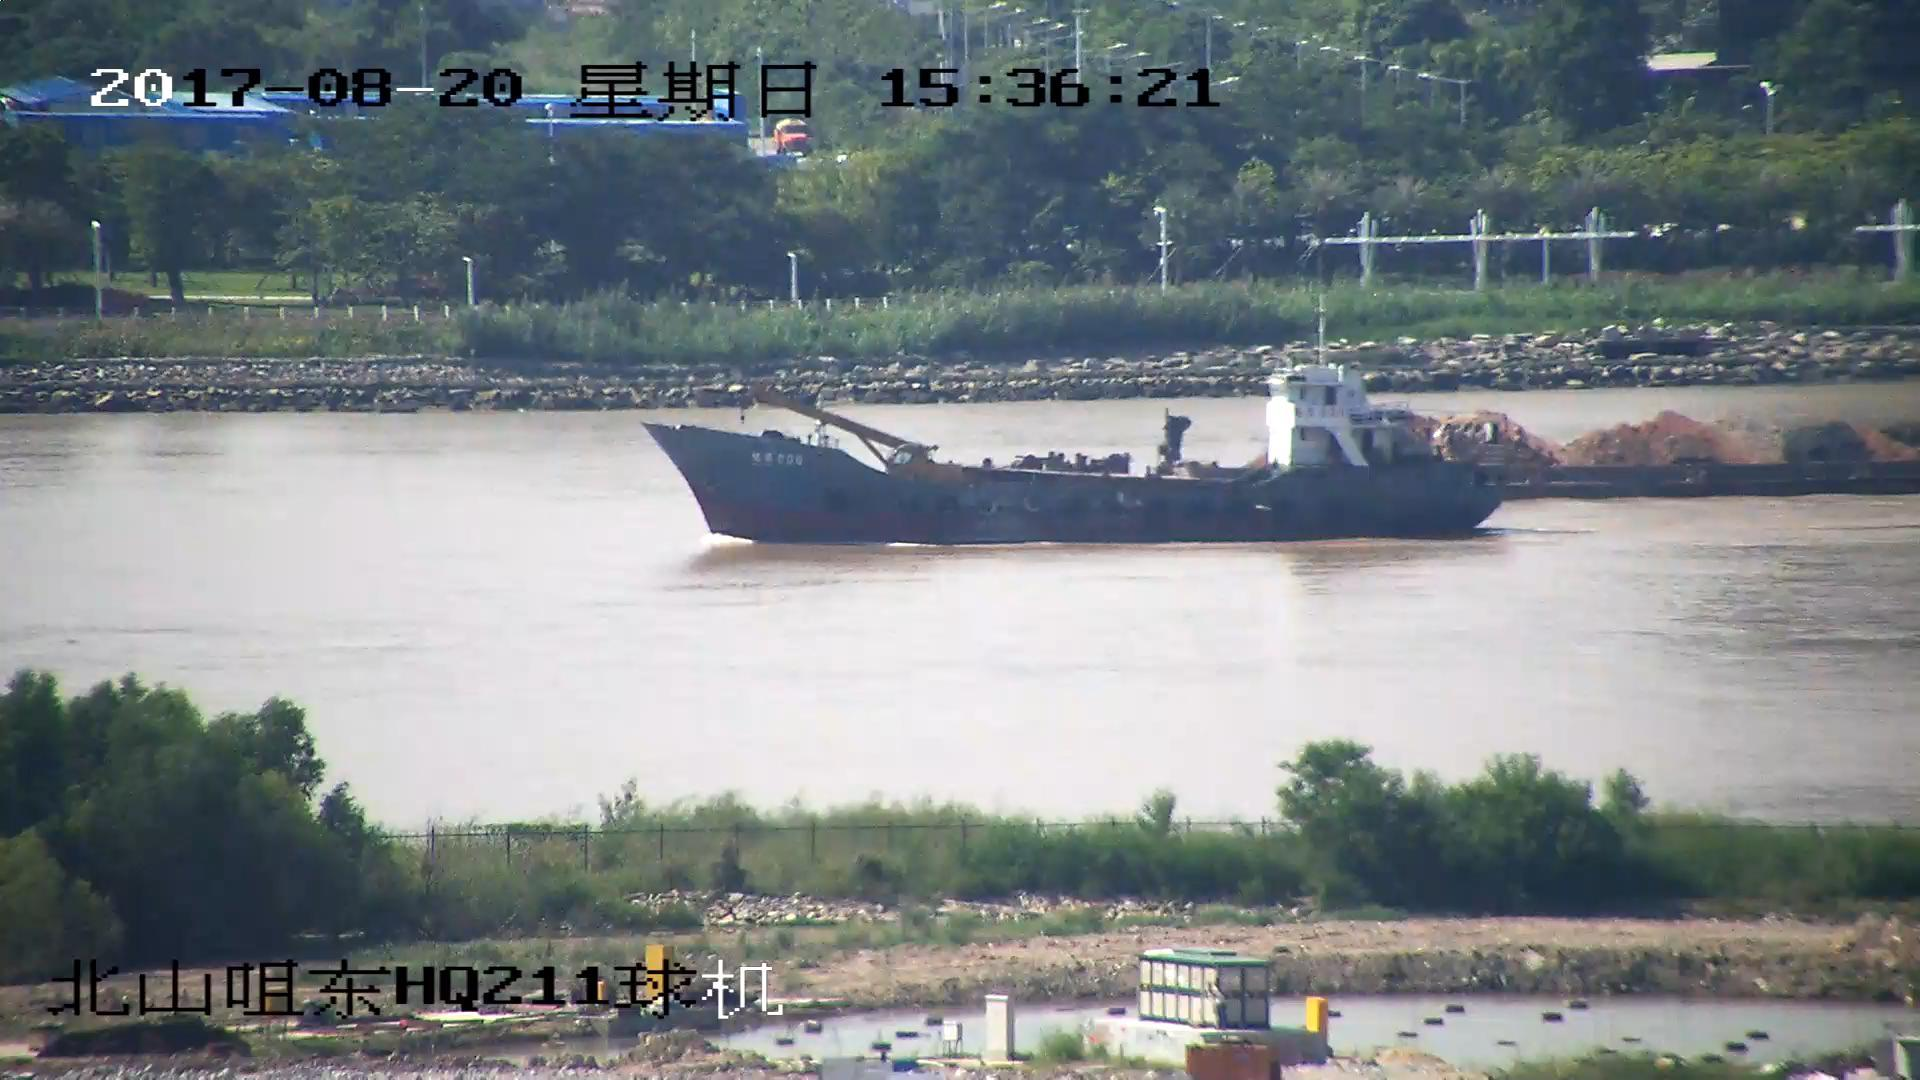Ship: (644, 287, 1503, 547), (969, 404, 1920, 506)
